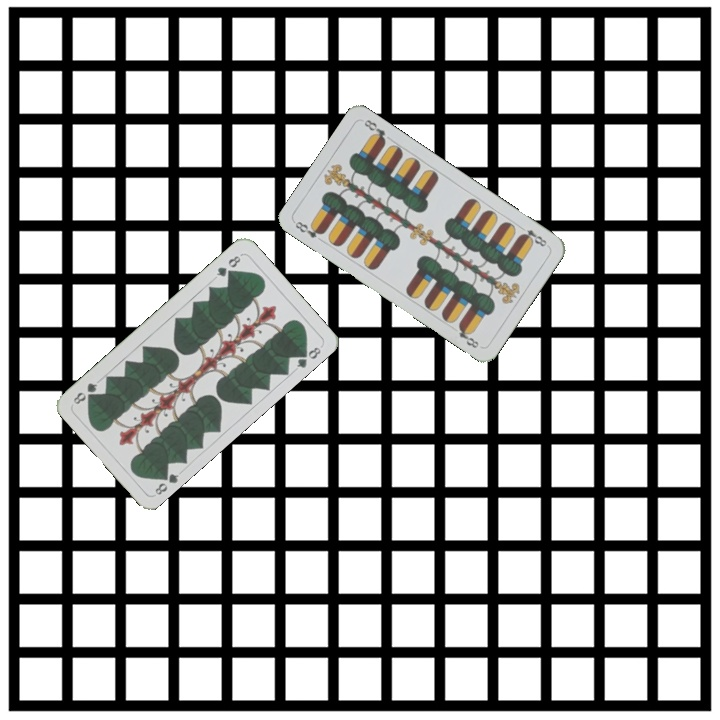E8: (515, 221, 549, 249), (291, 217, 327, 241)
G8: (151, 467, 182, 498), (212, 251, 243, 280)
